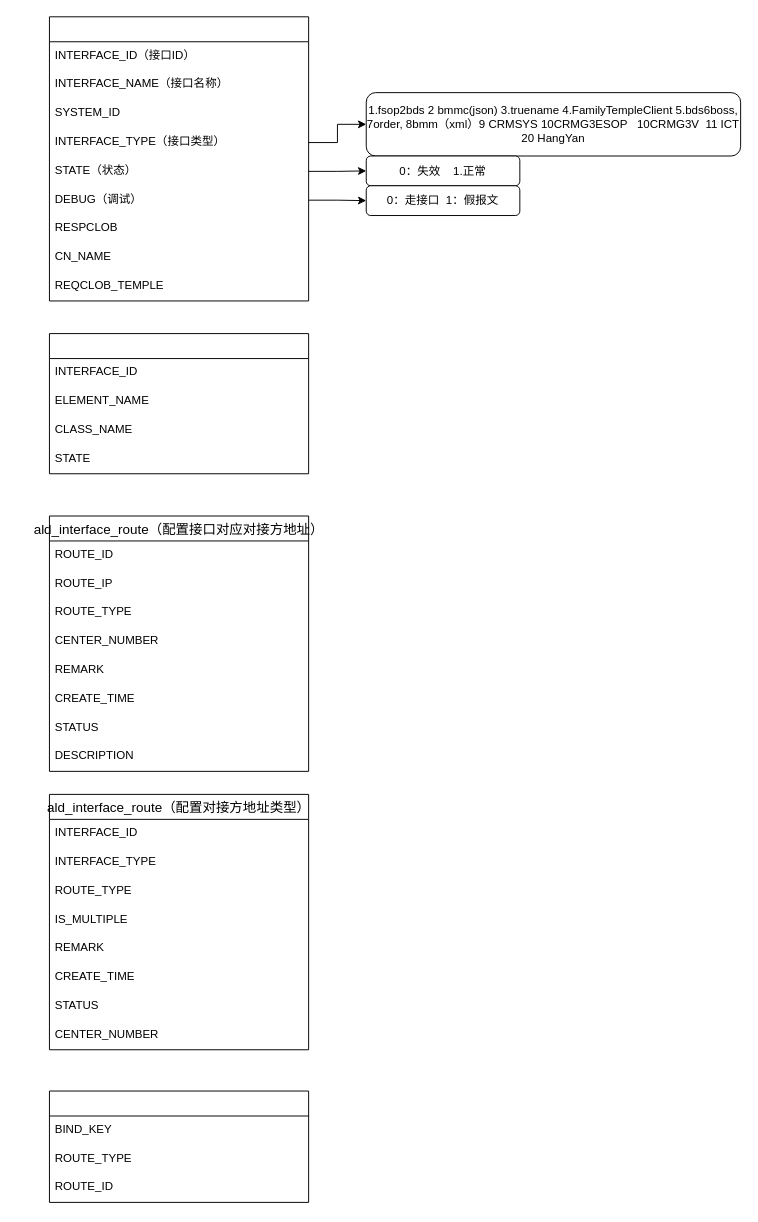
This 758x1222 diagram has some shape labels left out. Each missing label, with the box of its shape:
ald_interface_info（配置接口信息）: (48, 16, 309, 301)
ald_interface_route_rel（关联对接方地址）: (48, 1090, 309, 1202)
xsbao_interface_alias_info（配置接口ald中对应路径）: (48, 333, 309, 474)
